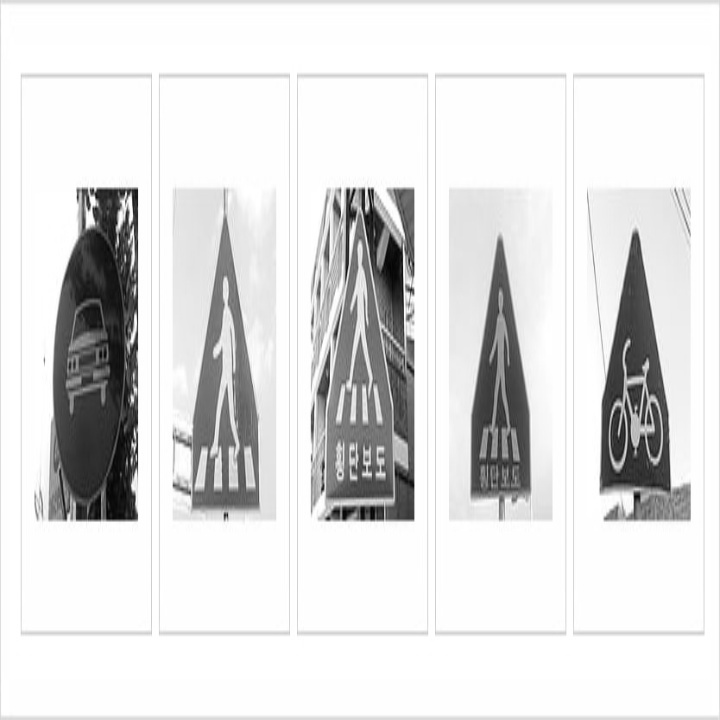bicycle: (587, 326, 670, 474)
cross: (174, 262, 266, 504), (312, 222, 398, 424), (477, 279, 523, 462)
